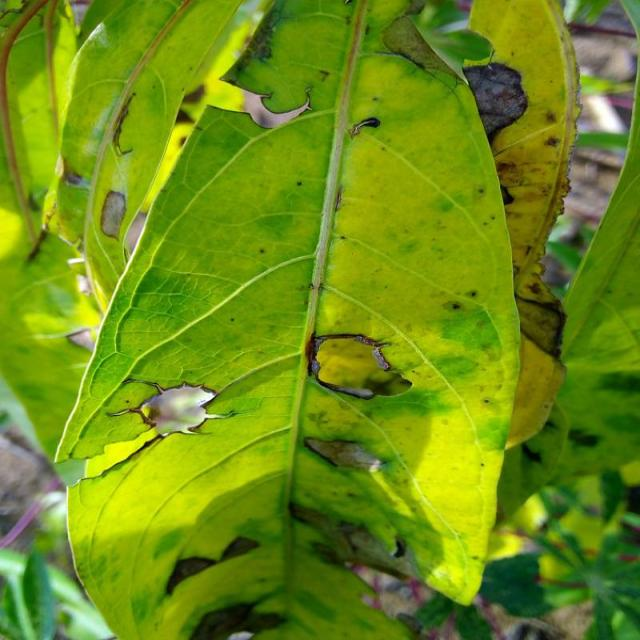cassava leaf: (51, 0, 524, 637)
